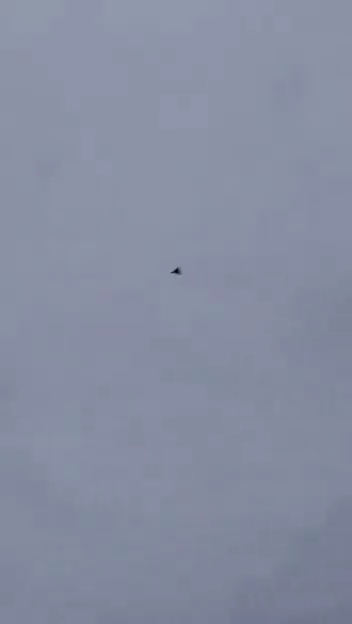shahed: (168, 265, 182, 276)
